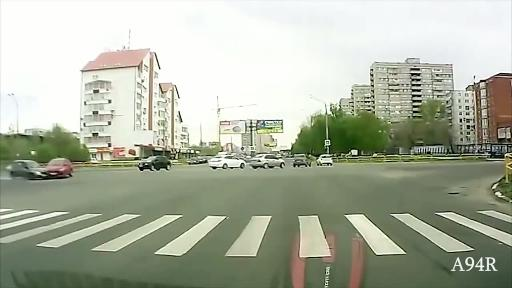Accident: (0, 122, 96, 195)
CAR: (204, 151, 245, 176), (135, 154, 175, 178), (254, 147, 286, 176), (317, 148, 338, 172)
